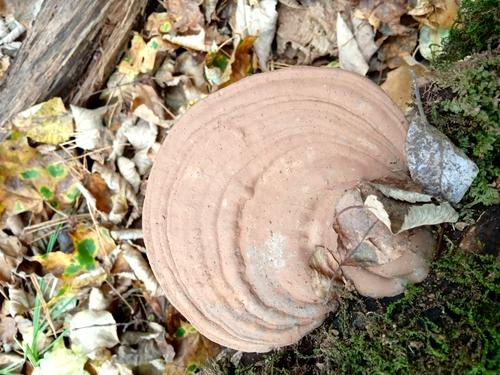Ganoderma - Fruit Body: (139, 65, 427, 356)
